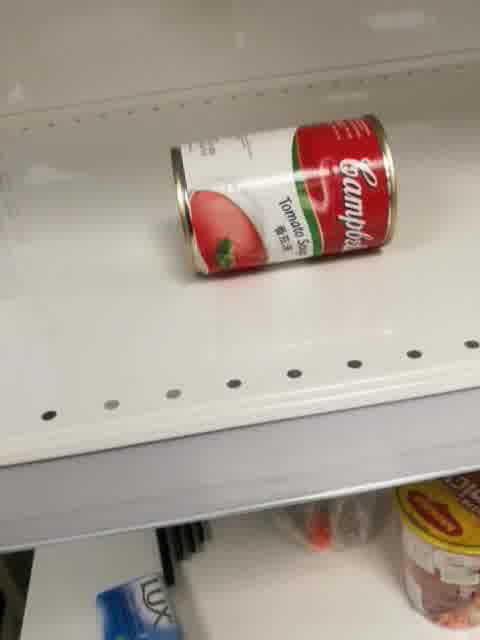tomatosoup: (169, 112, 399, 280)
